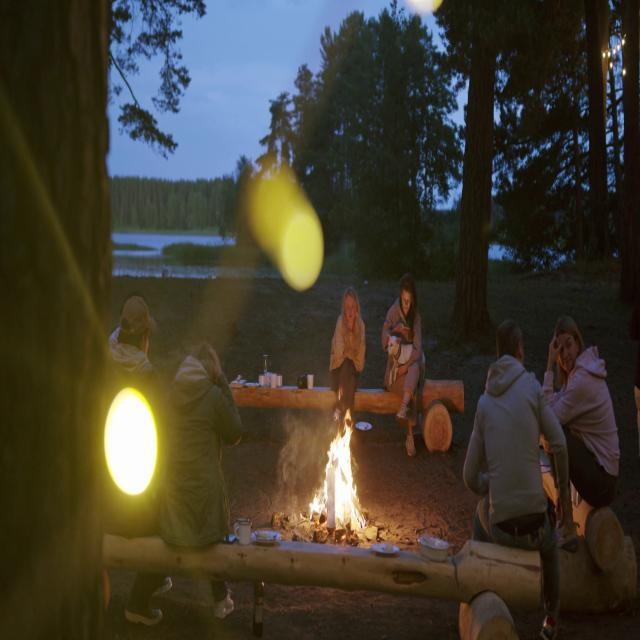Fire: (312, 403, 368, 540)
